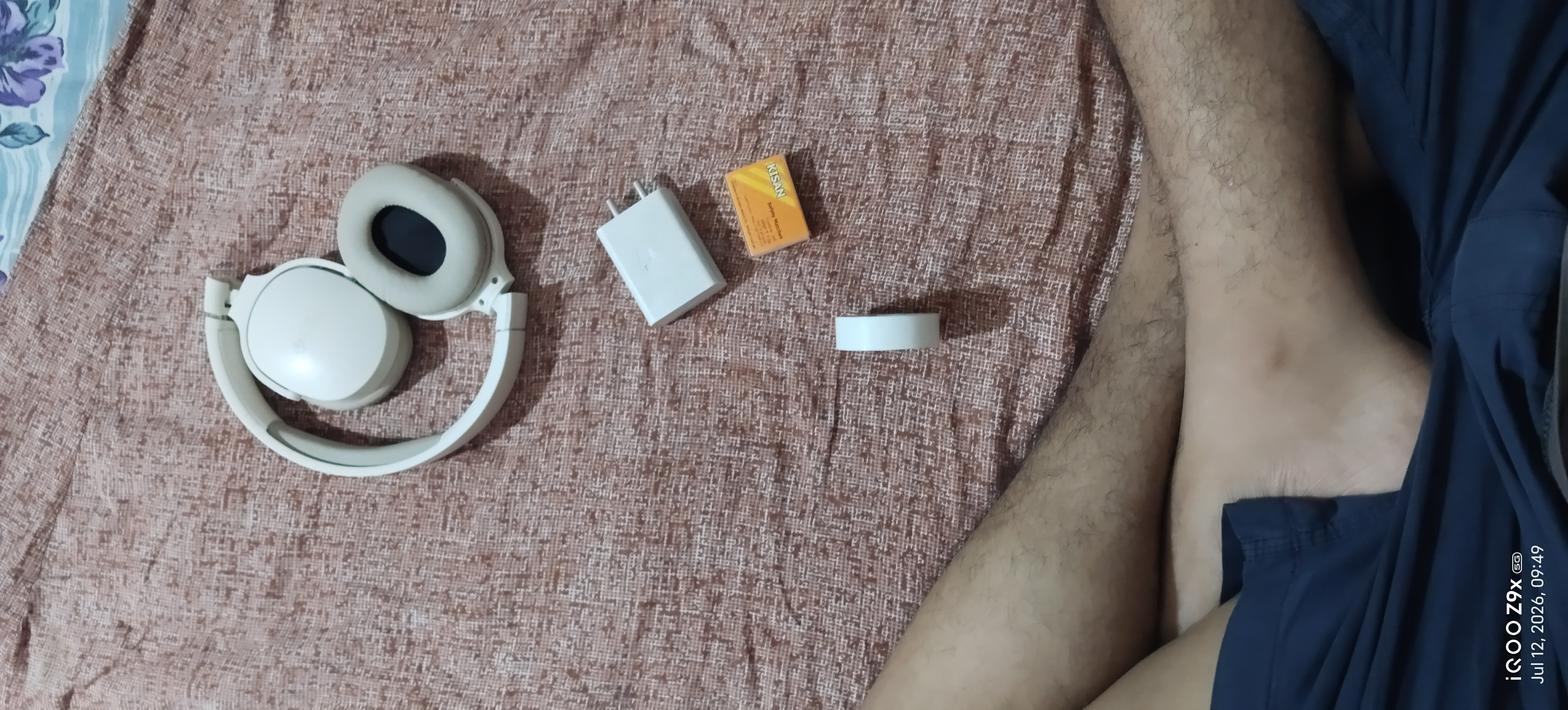charger: (590, 174, 735, 340)
matchbox: (721, 143, 819, 270)
tape_roll: (821, 305, 951, 362)
